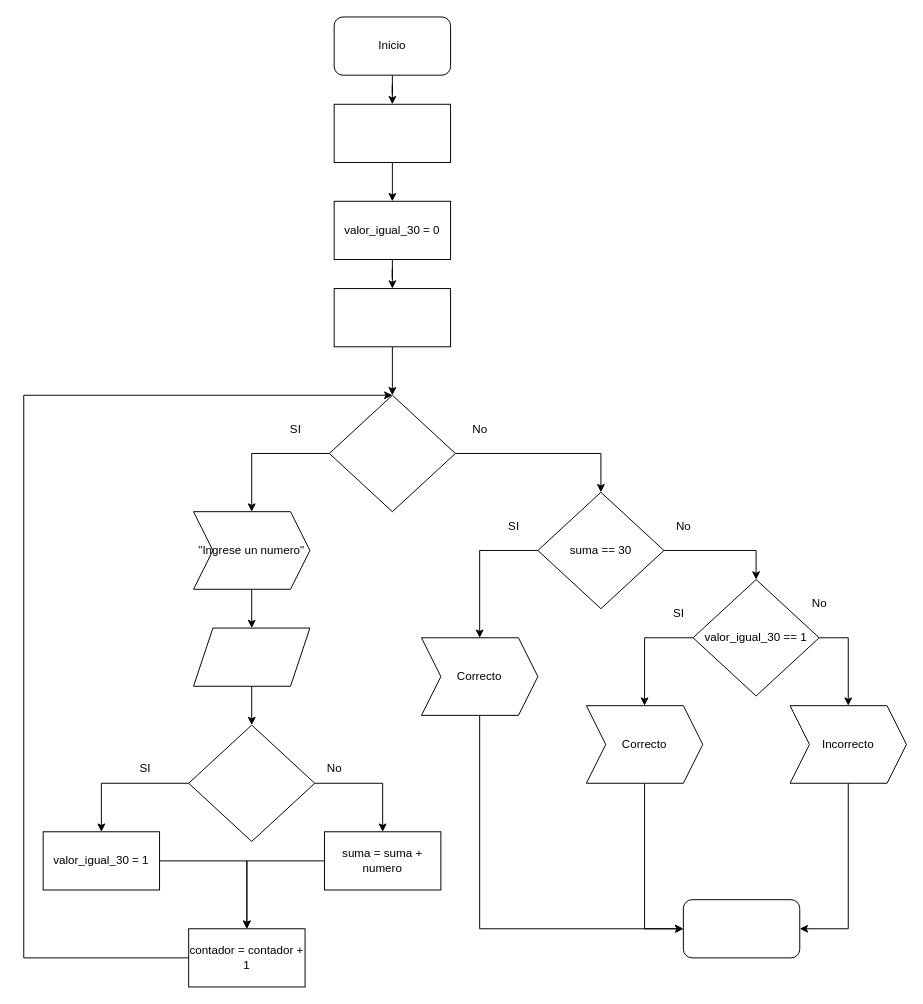
Some shapes in this 923 by 1004 pixel diagram are drawn without their labels. The shapes that lost their labels are listed below. From the top down, each one's centre as x and y in pixels, then its label:
the point at 392,132: suma = 0
the point at 392,317: contador = 1
the point at 391,453: contador <= 3
the point at 251,656: numero
the point at 251,782: numero == 30
the point at 741,928: Fin
